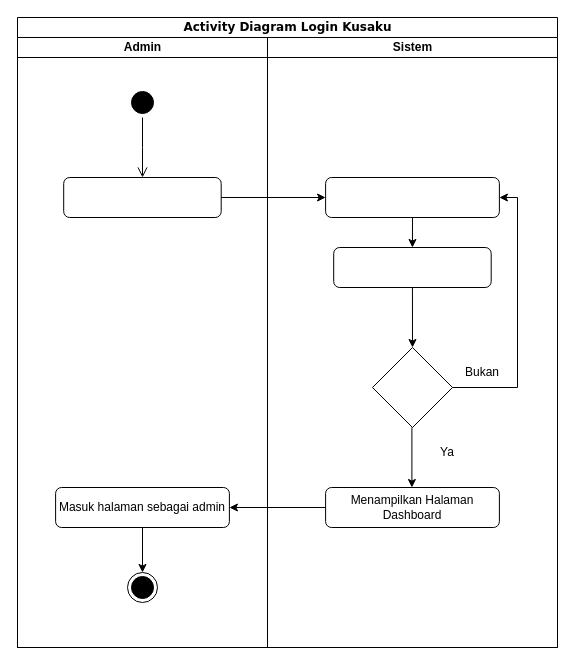
The diagram is 575 pixels wide and 665 high, and some of its shapes have lost their labels. Here are the shapes that lost their labels. From the top down, the centre of each, then its label:
point 142,197: Mengakses halaman login
point 412,197: Menampilkan Halaman Login
point 412,267: Validasi Akun
